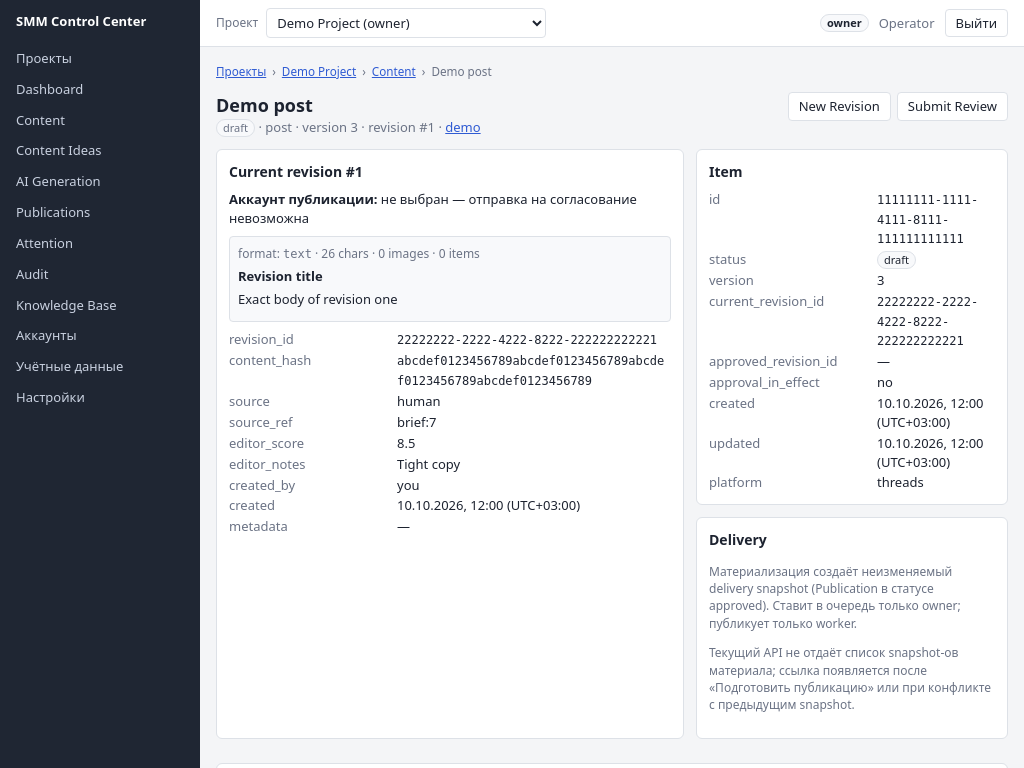
Test: J5 / AC-A2: switching from a page that has no counterpart › from a content item it goes to the other project's dashboard
Expected: the heading "Demo post" is shown, x1=216 y1=93 x2=313 y2=117
Select "Beta Project (viewer)" in the dropdown named "Project switcher" at [406, 23], box x1=266 y1=8 x2=546 y2=38
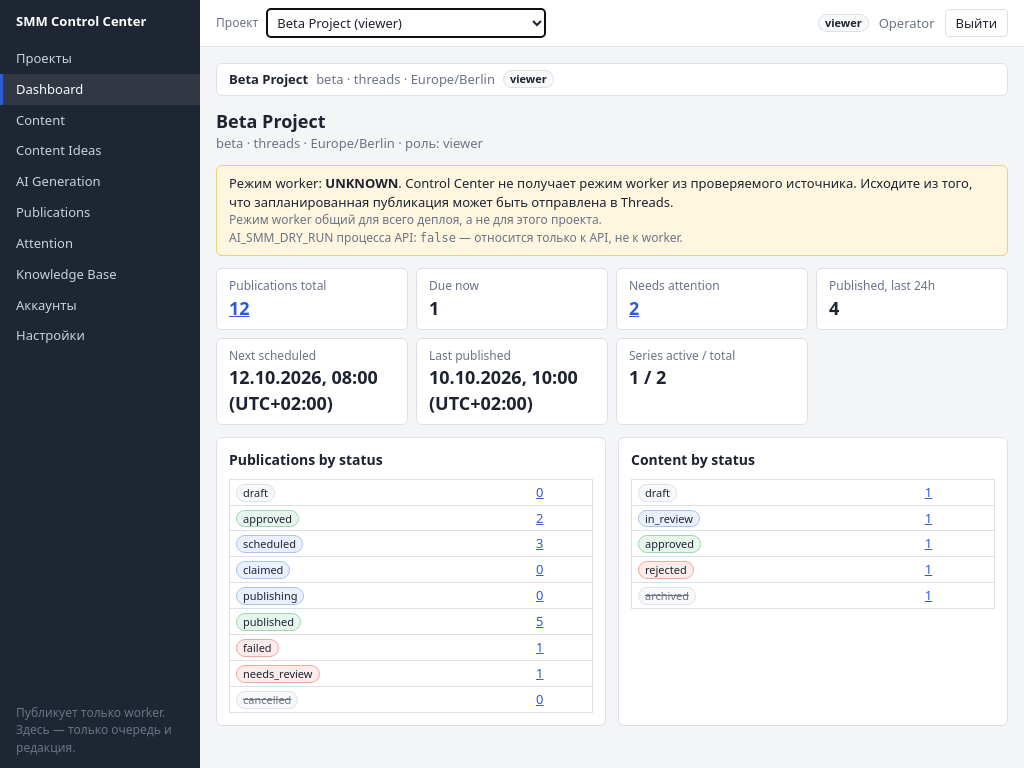
Expected: the heading "Beta Project" is shown, x1=216 y1=109 x2=326 y2=133
